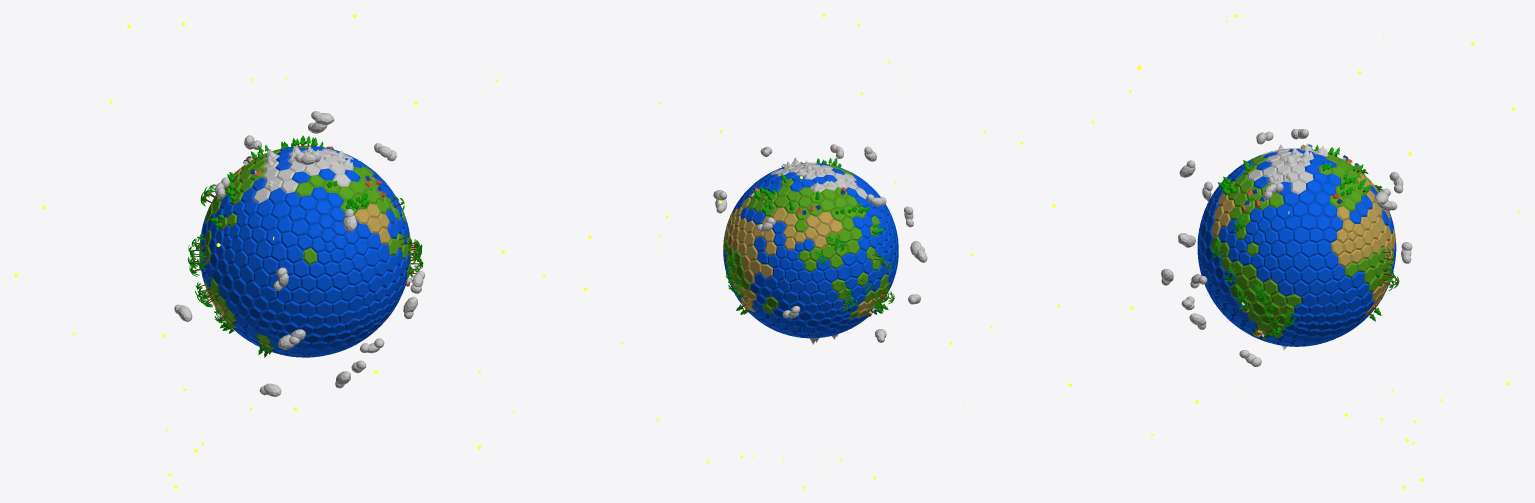
Rendered from earth.gltf.
The picture shows the model from 3 angles, left to right: view 1: azimuth 30°, elevation 25°; view 2: azimuth 150°, elevation 25°; view 3: azimuth 270°, elevation 25°; orthographic projection. The views are drawn at different scales.
Parts seen in each view (by area): view 1: Earth, Clouds and Stars, Earth Details; view 2: Earth, Earth Details, Clouds and Stars; view 3: Earth, Earth Details, Clouds and Stars.
Part boxes in pixels (bbox=[...]): Earth: bbox=[199, 145, 411, 357]; Clouds and Stars: bbox=[14, 14, 591, 488]; Earth Details: bbox=[187, 135, 423, 357]; Earth: bbox=[723, 162, 898, 338]; Earth Details: bbox=[725, 158, 894, 344]; Clouds and Stars: bbox=[620, 14, 1023, 488]; Earth: bbox=[1197, 148, 1396, 346]; Earth Details: bbox=[1211, 143, 1399, 350]; Clouds and Stars: bbox=[1052, 14, 1520, 488].
Size of the model in its own units: 18.1 by 18.4 by 17.05.
